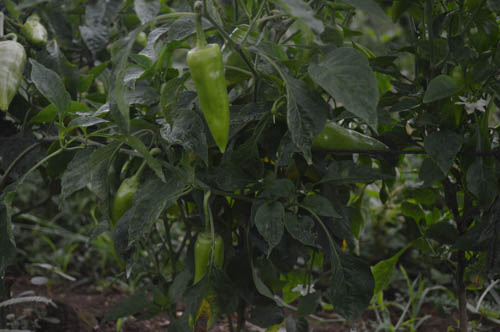ChiliPepper: (190, 44, 226, 154), (309, 120, 386, 152), (192, 233, 225, 279), (112, 183, 140, 221)
